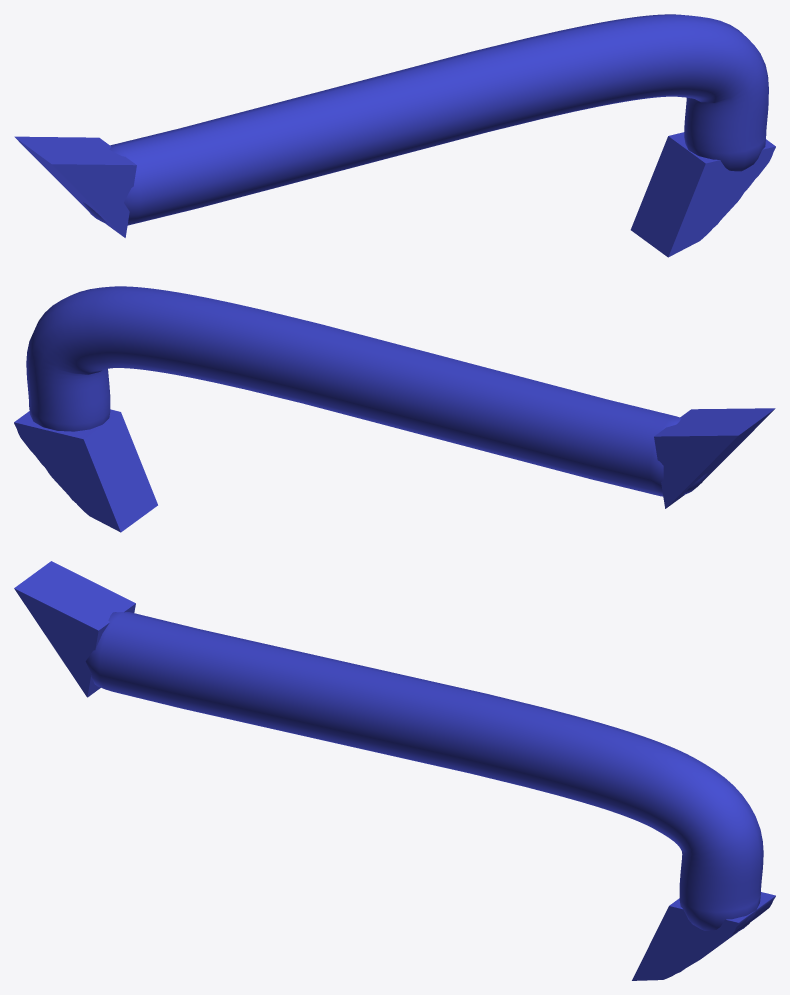
File: crowbar.fbx
3 views of the same model, one above another, from view 1: azimuth 30°, elevation 25°; view 2: azimuth 150°, elevation 25°; view 3: azimuth 330°, elevation 25° (orthographic).
Visible parts, largest first — view 1: root (×3); view 2: root (×3); view 3: root (×3).
Boxes of the visible parts, x1,y1,x2,y2 form: root (×3): (14,14,775,257); root (×3): (14,286,775,532); root (×3): (14,561,775,980).
Bounding box in the file's own units: 1.12 × 0.3617 × 0.1133.
